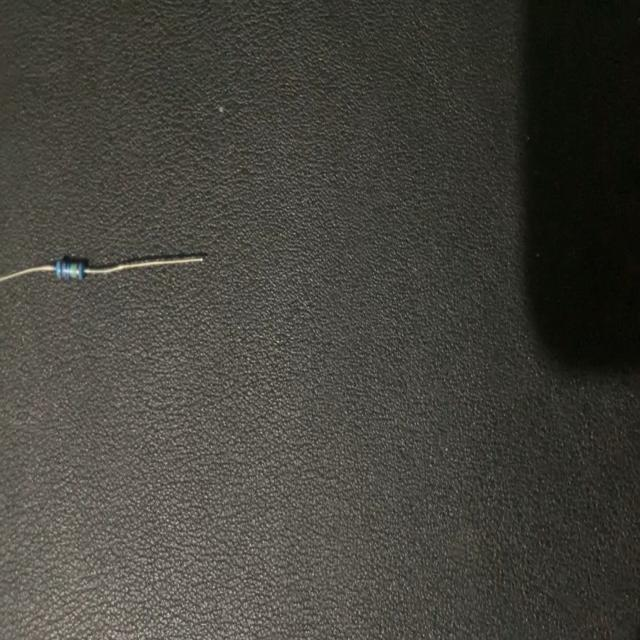resistor: (0, 241, 206, 299)
